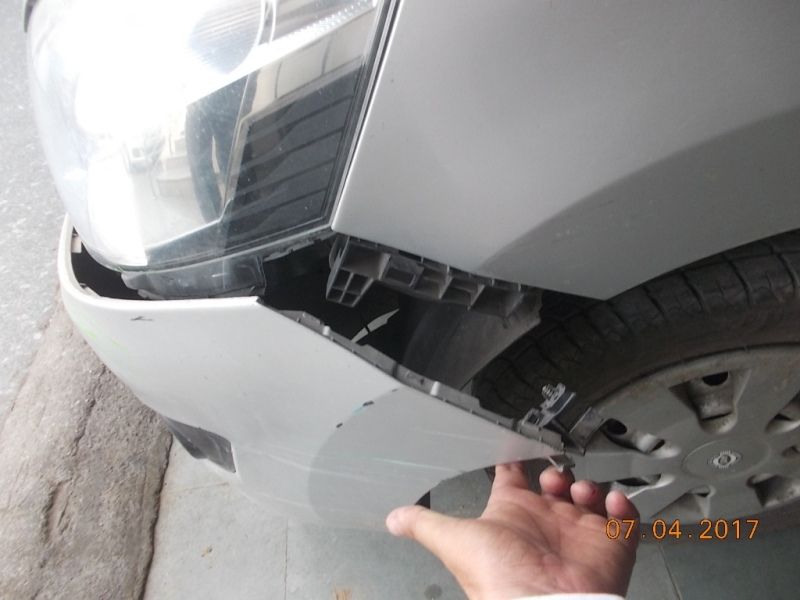Dislocation: (246, 209, 614, 465)
